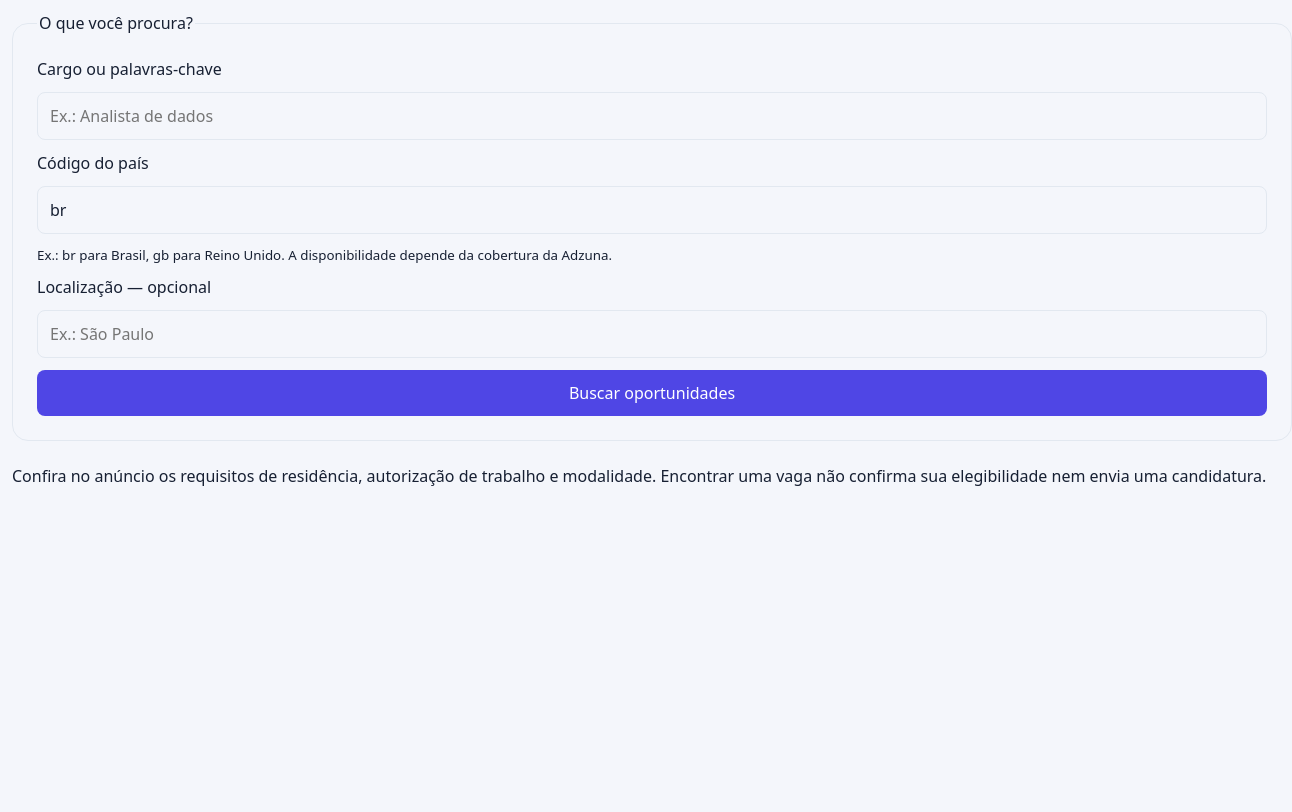
Scenario: Busca de oportunidades › informa quando a busca não retorna vagas
Type "Analista de dados" into the field labelled "Cargo ou palavras-chave" at (652, 116), box [37, 92, 1267, 140]
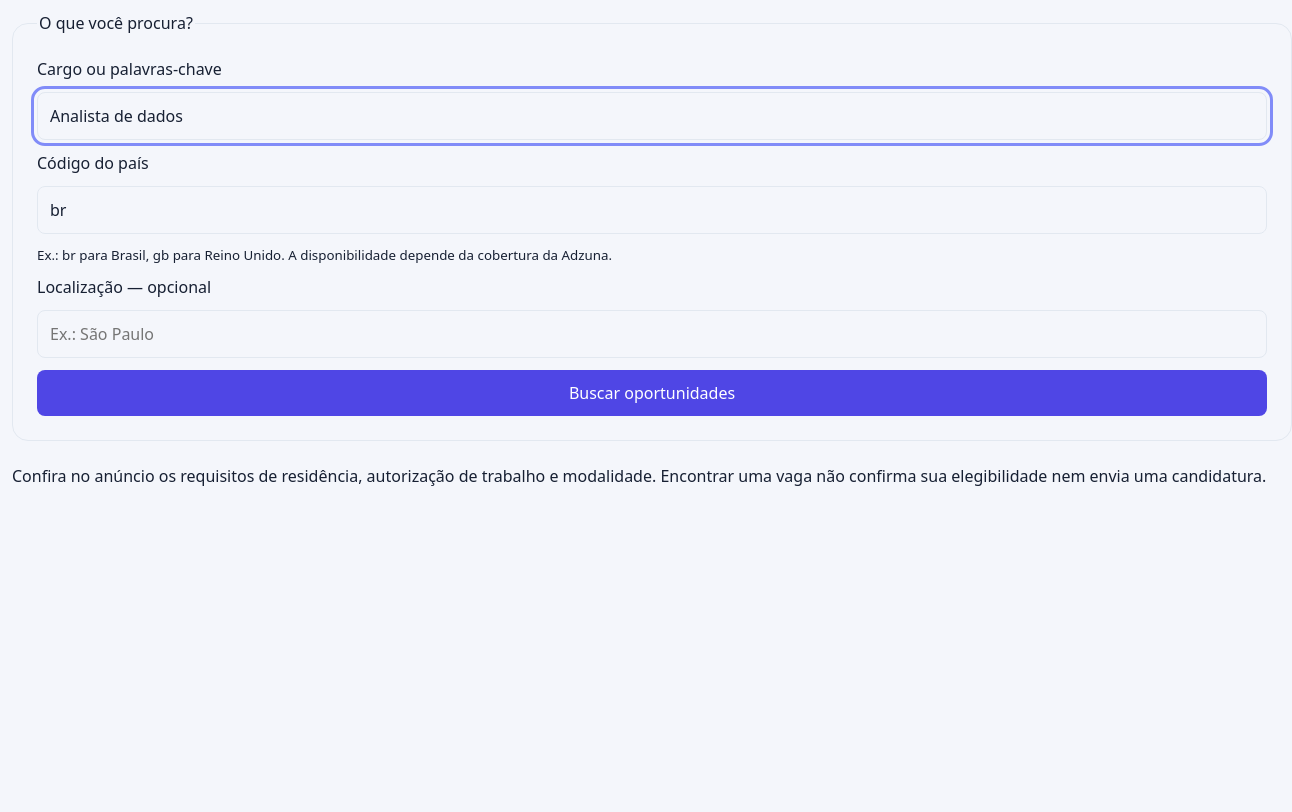
Click the button "Buscar oportunidades" at (652, 393), box [37, 370, 1267, 416]
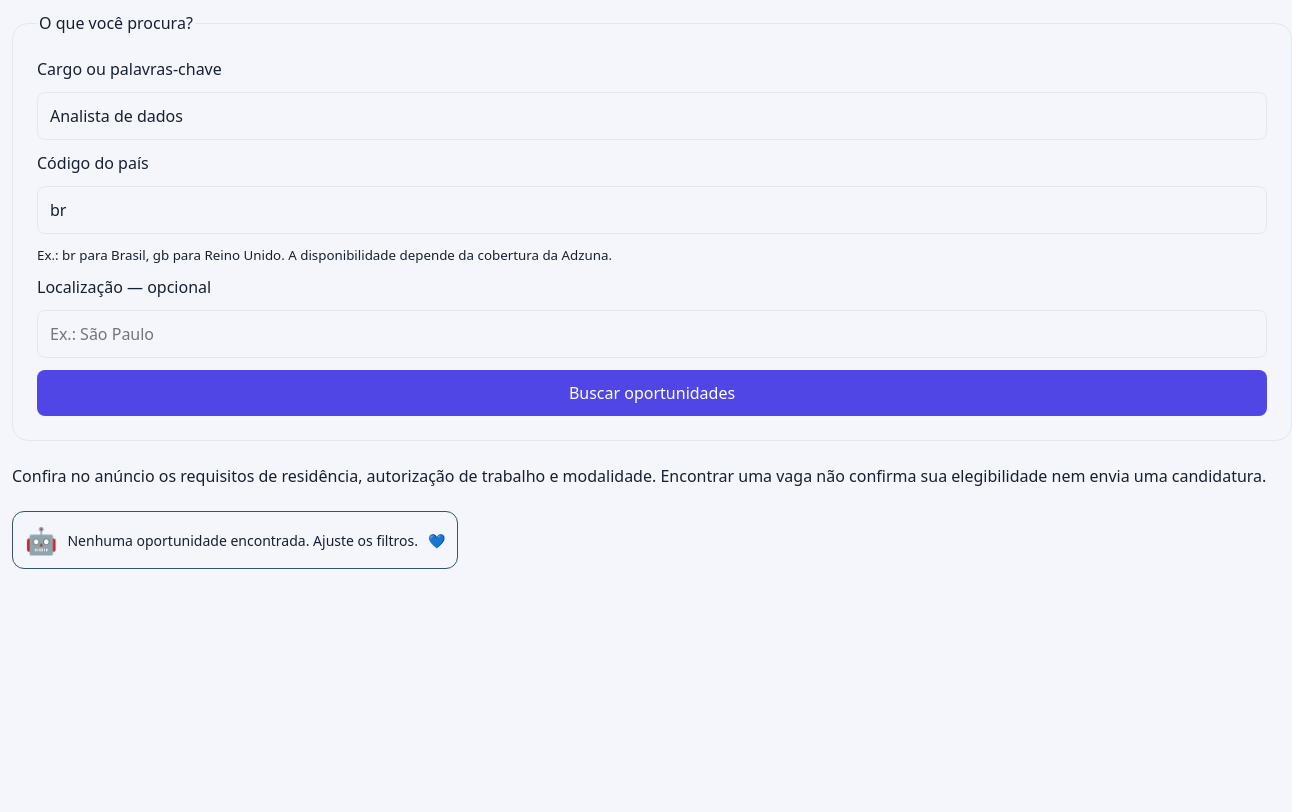
Check: the text "Nenhuma oportunidade encontrada. Ajuste os filtros." is shown, box [67, 530, 418, 550]
